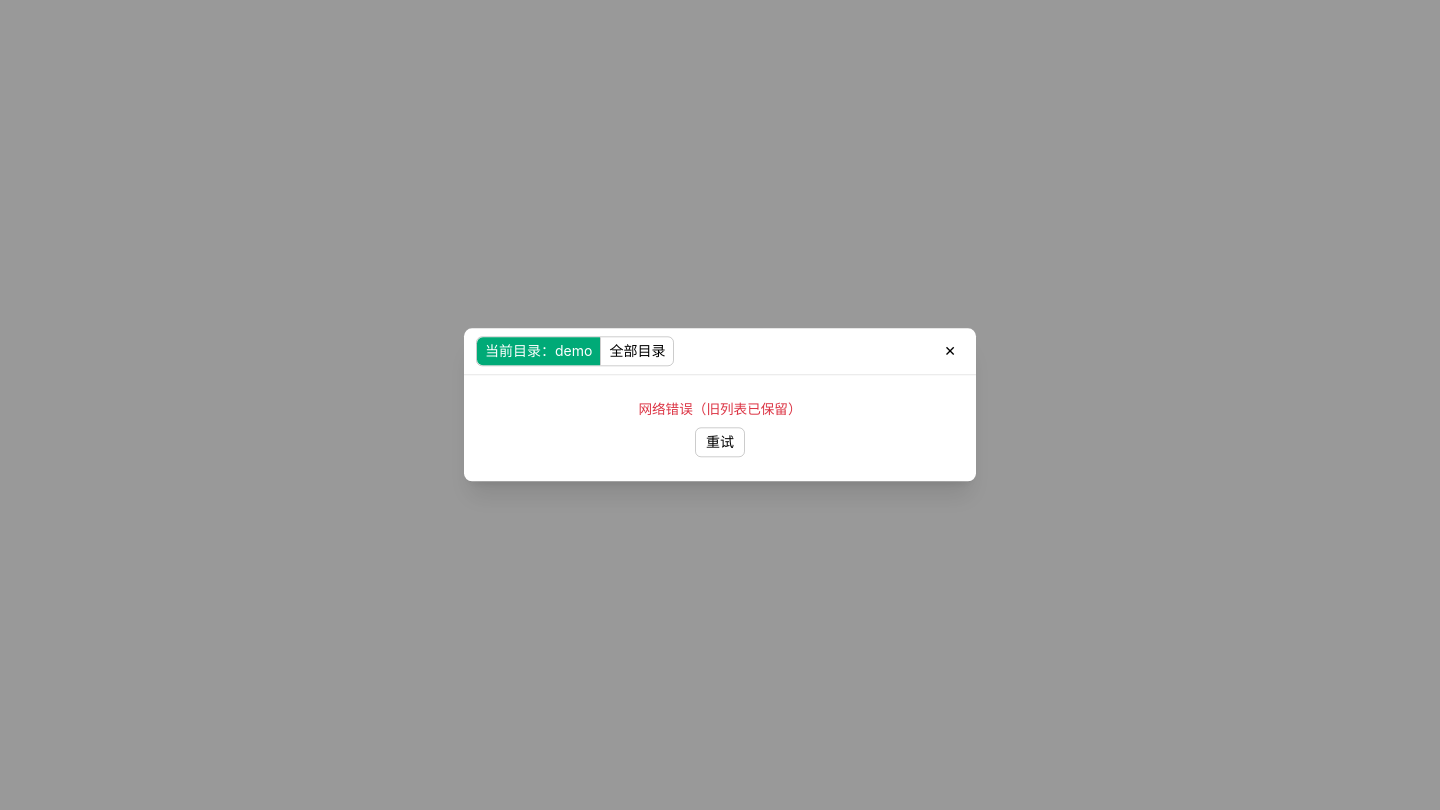
Scenario: SessionPickerModal（issue #94 评审裁决瘦身版） › 三态·失败：错误提示 + 「重试」按钮；重试重新拉全量并成功
Click the button "重试": (720, 443) [695,428,745,458]
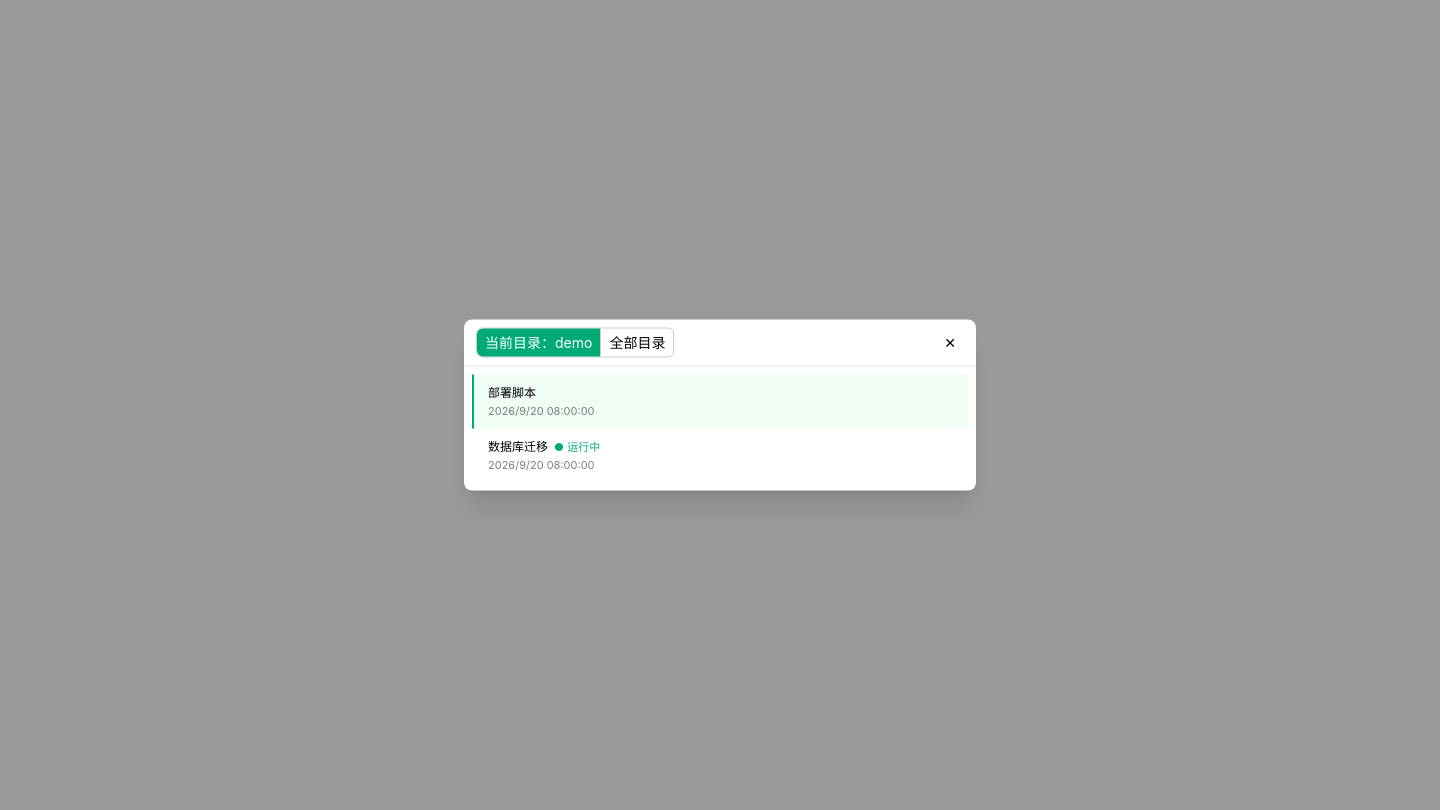
Expected: the number of options is 2, [472,374,968,428]; [488,438,600,471]
Expected: the text "网络错误" is gone
